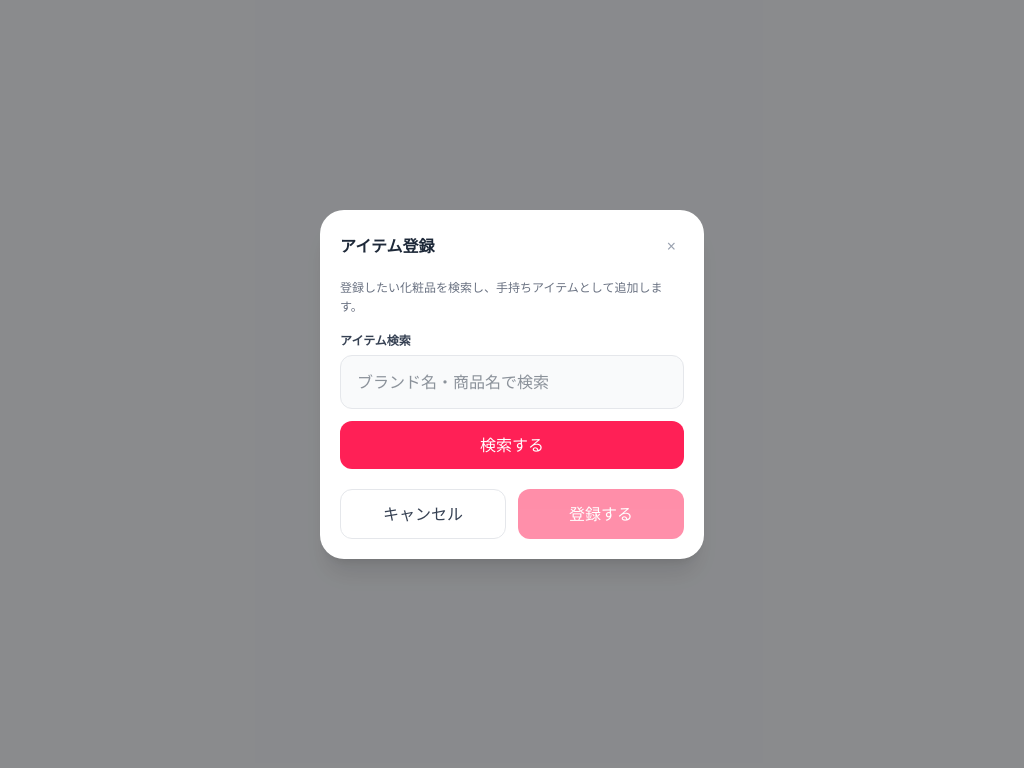
Item components › ItemRegisterModal は検索して選択したアイテムを登録できる
This screenshot has width=1024, height=768.
In the field labelled "アイテム検索": (512, 382) [340,354,684,408], type "ローション"
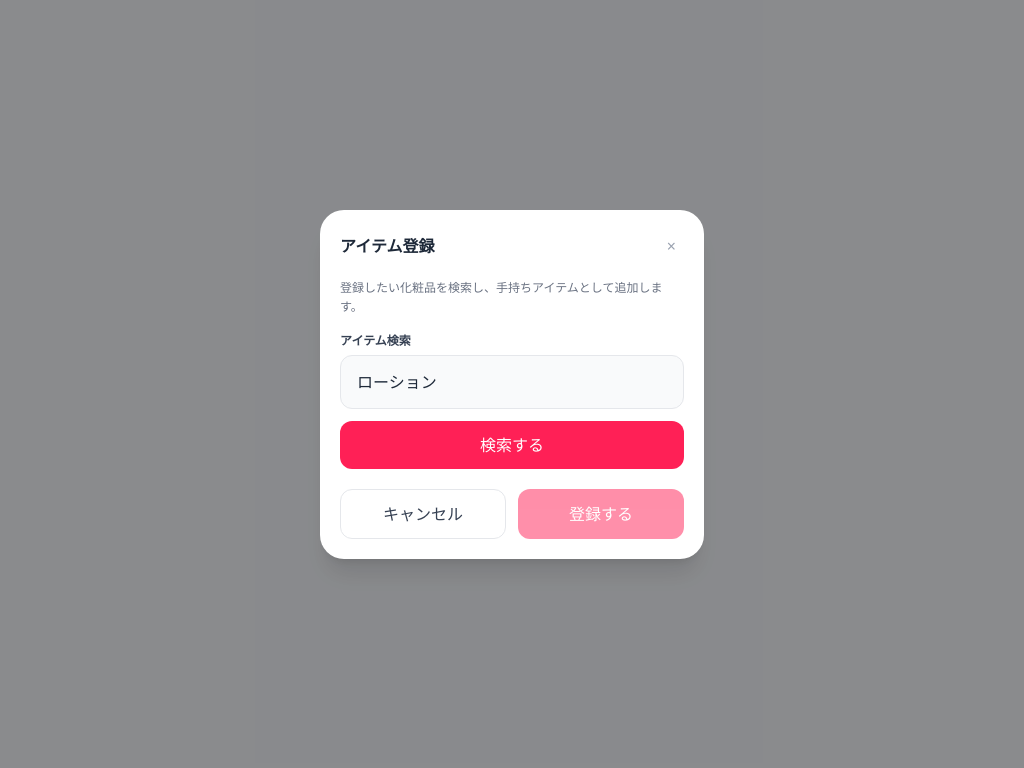
Click the button "検索する": (512, 444) [340,420,684,468]
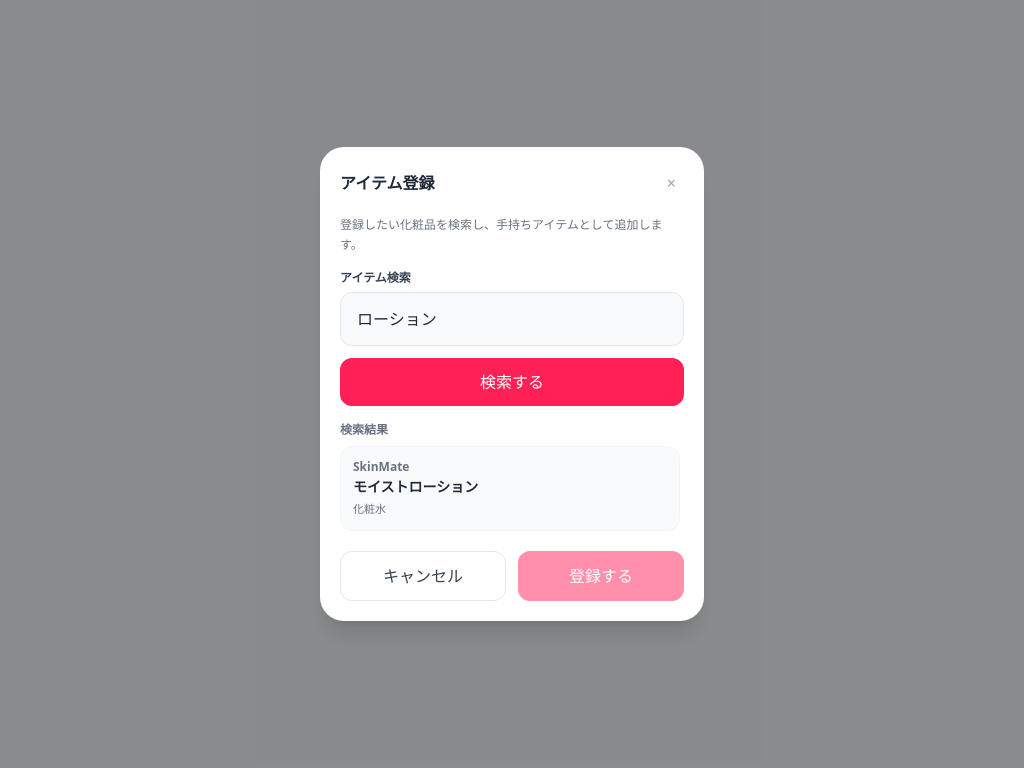
Click the button "SkinMate モイストローション 化粧水": (381, 467) [340,446,680,531]
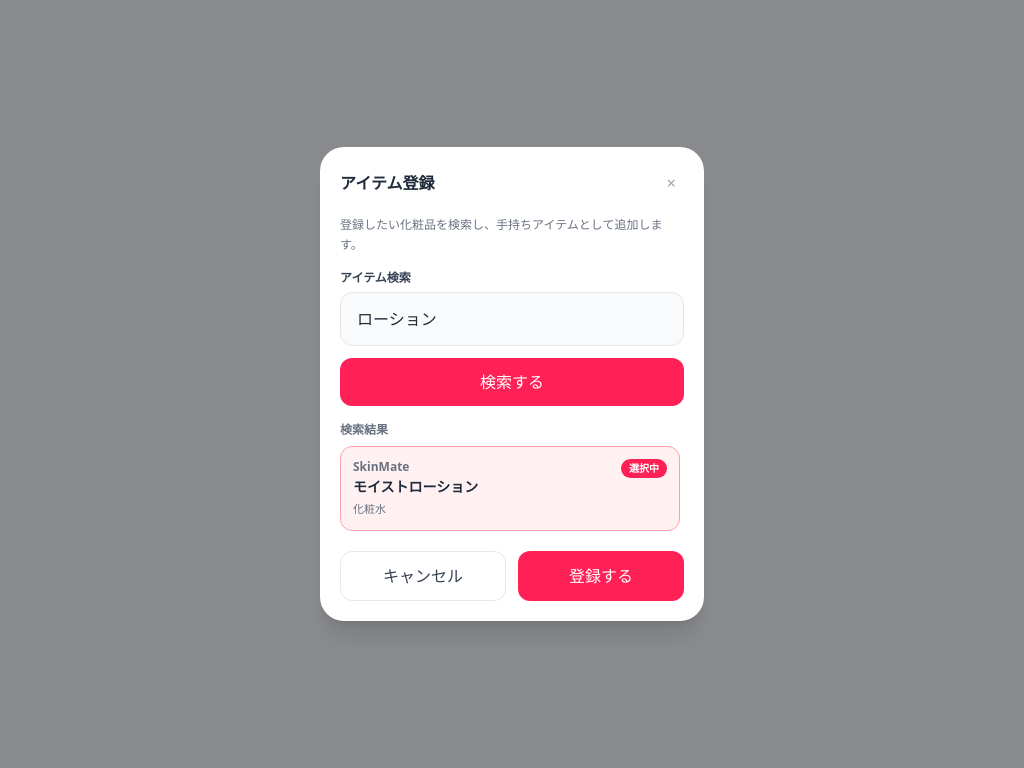
Click the button "登録する": (601, 576) [518,551,684,601]
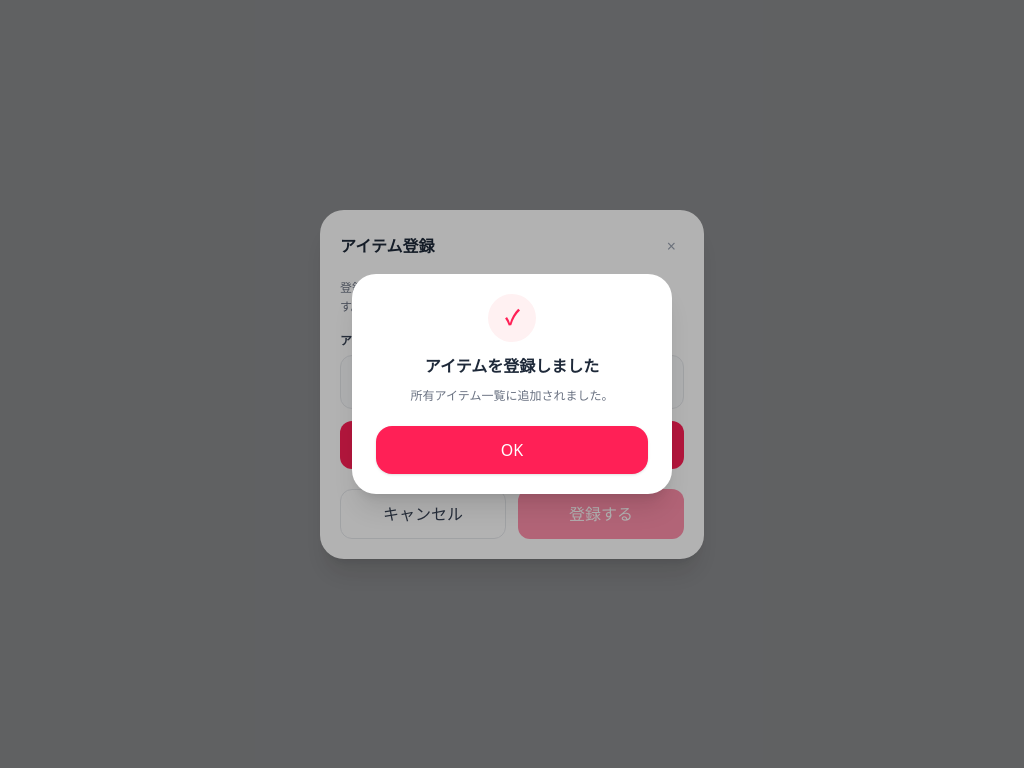
Expected: the heading "アイテムを登録しました" is shown, [425,355,599,377]
